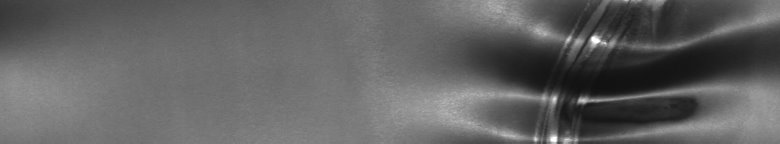ke: (444, 4, 776, 136)
